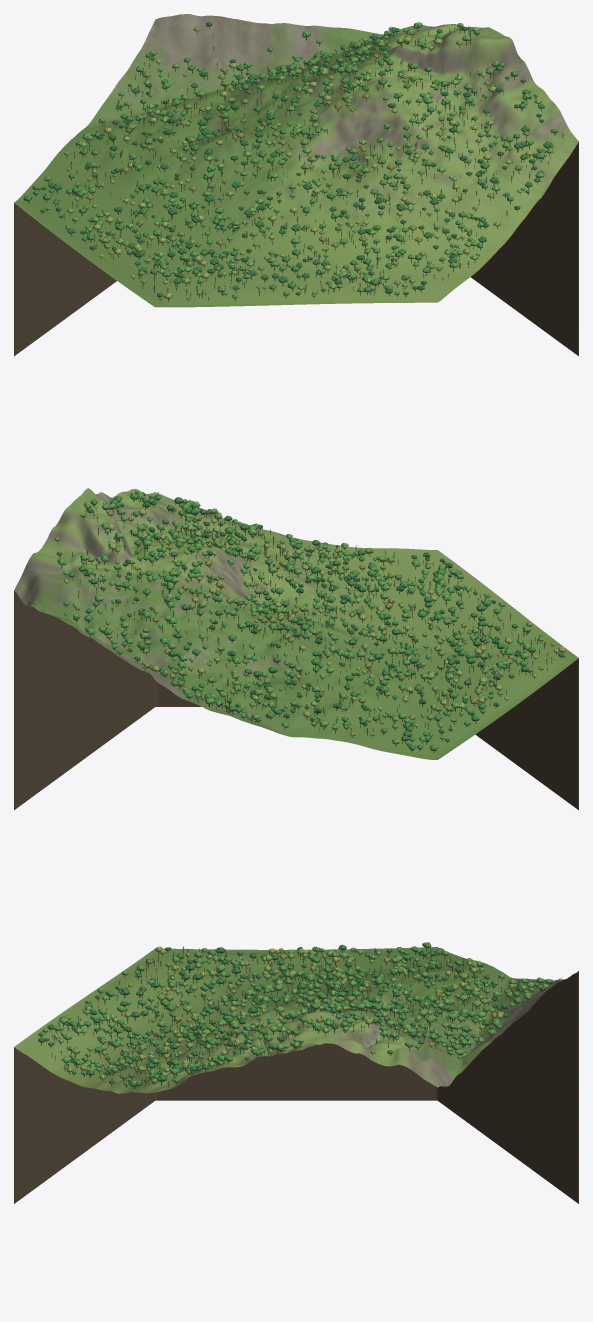
3 renders of one model, top to bottom at view 1: azimuth 30°, elevation 25°; view 2: azimuth 150°, elevation 25°; view 3: azimuth 270°, elevation 25°, orthographic.
Visible parts, largest first — view 1: terrain, broadleaf_canopy, hex_side_cut, trunks, conifer_canopy; view 2: terrain, broadleaf_canopy, hex_side_cut, trunks, conifer_canopy; view 3: hex_side_cut, terrain, broadleaf_canopy, trunks, conifer_canopy.
Part boxes in pixels (x1,y1,x2,y2): terrain: [14, 14, 578, 307]; broadleaf_canopy: [23, 22, 558, 300]; hex_side_cut: [14, 142, 578, 356]; trunks: [28, 26, 563, 301]; conifer_canopy: [52, 26, 563, 299]; terrain: [14, 488, 578, 759]; broadleaf_canopy: [54, 491, 565, 751]; hex_side_cut: [14, 591, 578, 809]; trunks: [57, 492, 564, 753]; conifer_canopy: [59, 491, 553, 742]; hex_side_cut: [14, 971, 578, 1203]; terrain: [14, 947, 573, 1093]; broadleaf_canopy: [38, 942, 553, 1086]; trunks: [40, 948, 550, 1088]; conifer_canopy: [40, 946, 548, 1084].
Size of the model in its own units: 4330 by 2649 by 5000.
6 materials, 1 textured.
